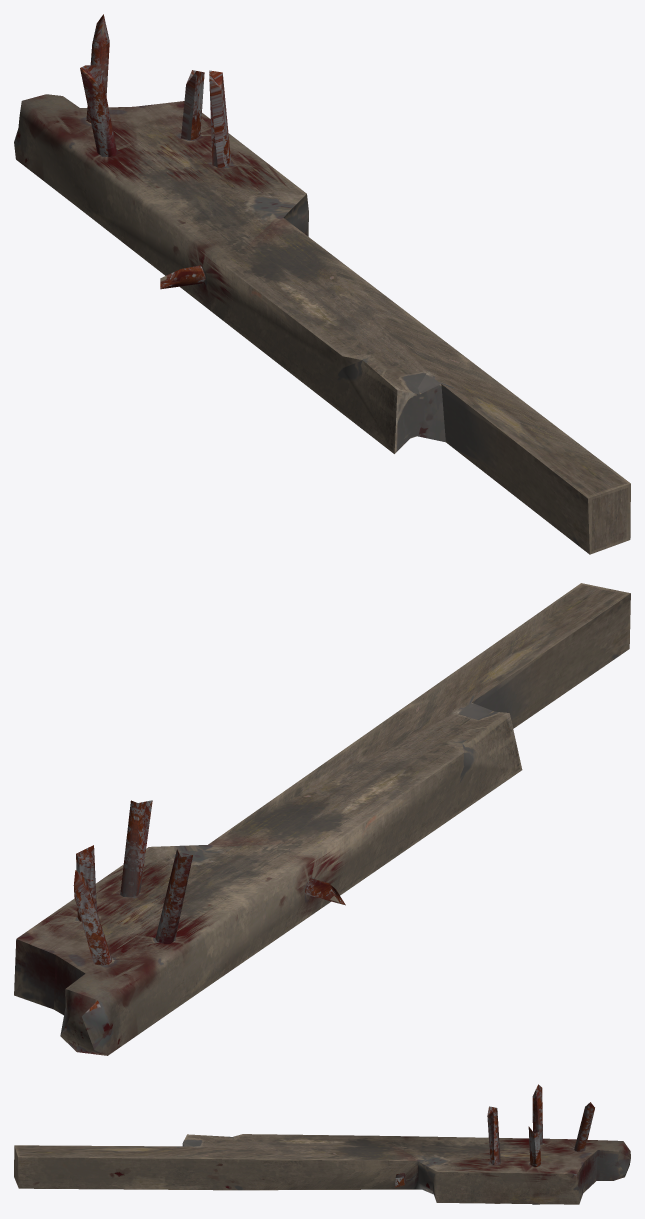
File: NailedPlank.fbx
The picture shows the model from 3 angles, top to bottom: view 1: azimuth 30°, elevation 25°; view 2: azimuth 150°, elevation 25°; view 3: azimuth 270°, elevation 25°; orthographic projection. The views are drawn at different scales.
Parts seen in each view (by area): view 1: NailedPlank; view 2: NailedPlank; view 3: NailedPlank.
Part boxes in pixels (box(x1,y1,x2,y2)): NailedPlank: box(14, 14, 630, 554); NailedPlank: box(14, 583, 630, 1055); NailedPlank: box(14, 1084, 630, 1204).
Bounding box in the file's own units: 9.97 × 9.15 × 53.89.
Materials: 1 (1 with a texture image).
